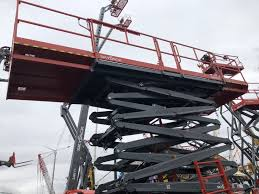Scissor Lift: (1, 1, 248, 194)
